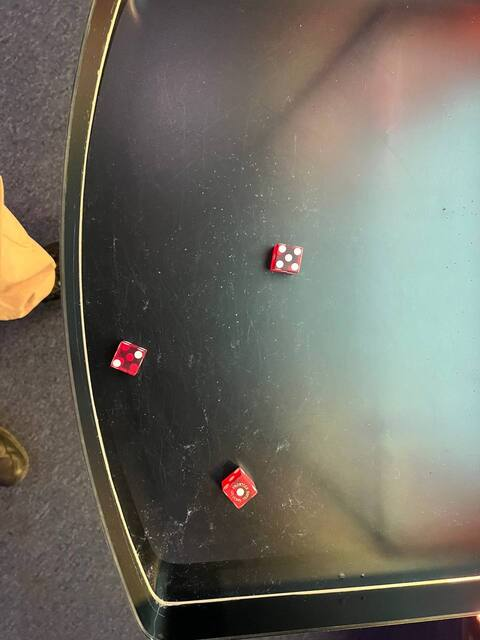five: (268, 240, 307, 279)
one: (222, 475, 257, 510)
two: (108, 344, 148, 377)
